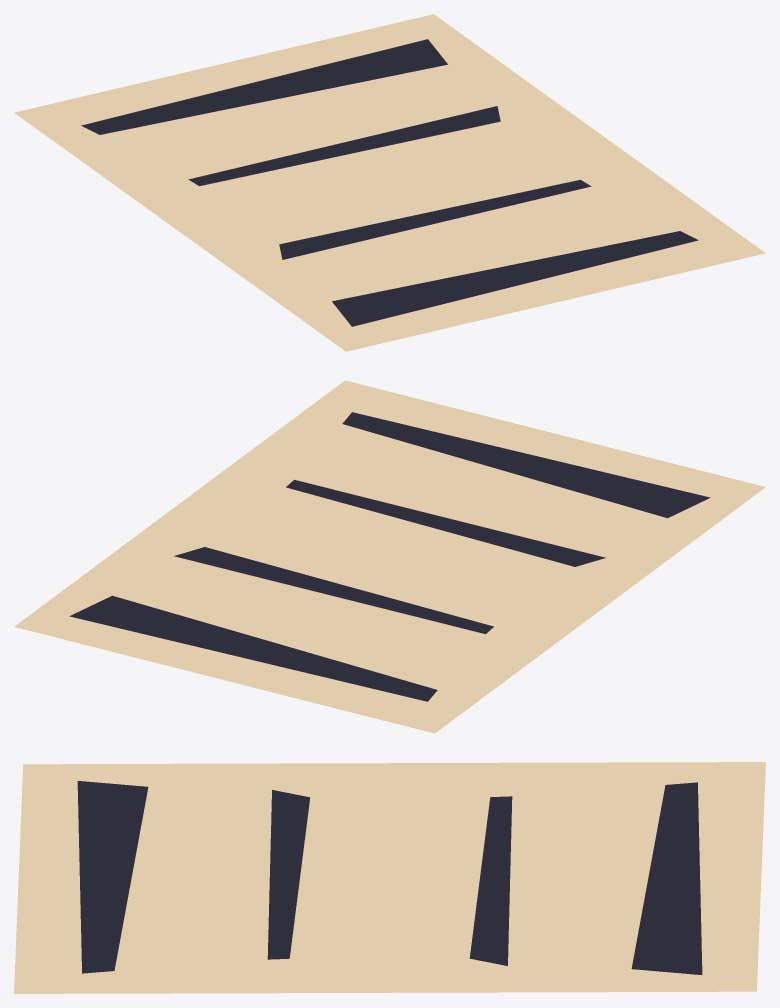
Rendered from PaperWriting.fbx.
3 views of the same model, one above another, from view 1: azimuth 30°, elevation 25°; view 2: azimuth 150°, elevation 25°; view 3: azimuth 270°, elevation 25° (orthographic). The views are drawn at different scales.
Visible parts, largest first — view 1: Desk.002; view 2: Desk.002; view 3: Desk.002.
Part boxes in pixels (x1,y1,x2,y2): Desk.002: (14, 14, 765, 351); Desk.002: (14, 380, 765, 733); Desk.002: (14, 762, 765, 993).
Size of the model in its own units: 26.65 by 0 by 36.51.
